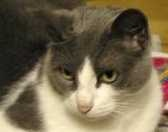Cat: (45, 6, 150, 117)
